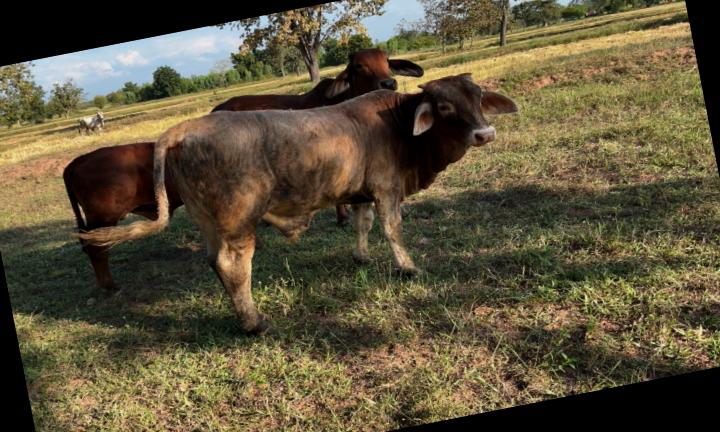Charolais: (153, 73, 517, 332)
